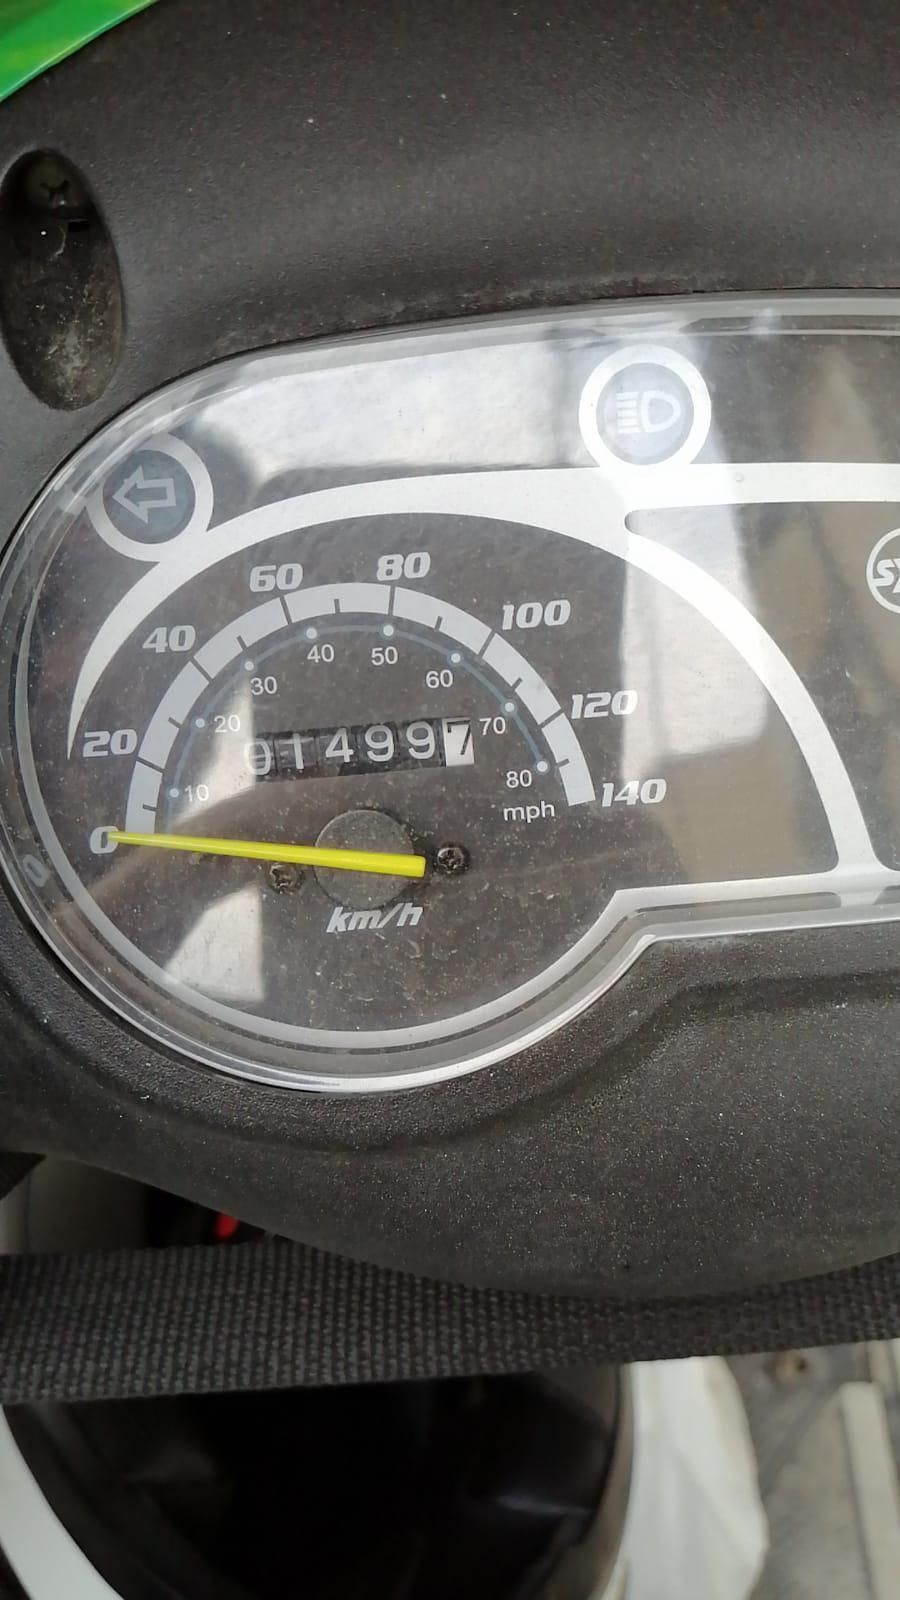0: (242, 736, 273, 777)
1: (287, 731, 308, 774)
4: (323, 725, 355, 764)
7: (443, 718, 475, 756)
9: (405, 719, 437, 760), (363, 724, 396, 764)
odometer: (236, 713, 479, 790)
